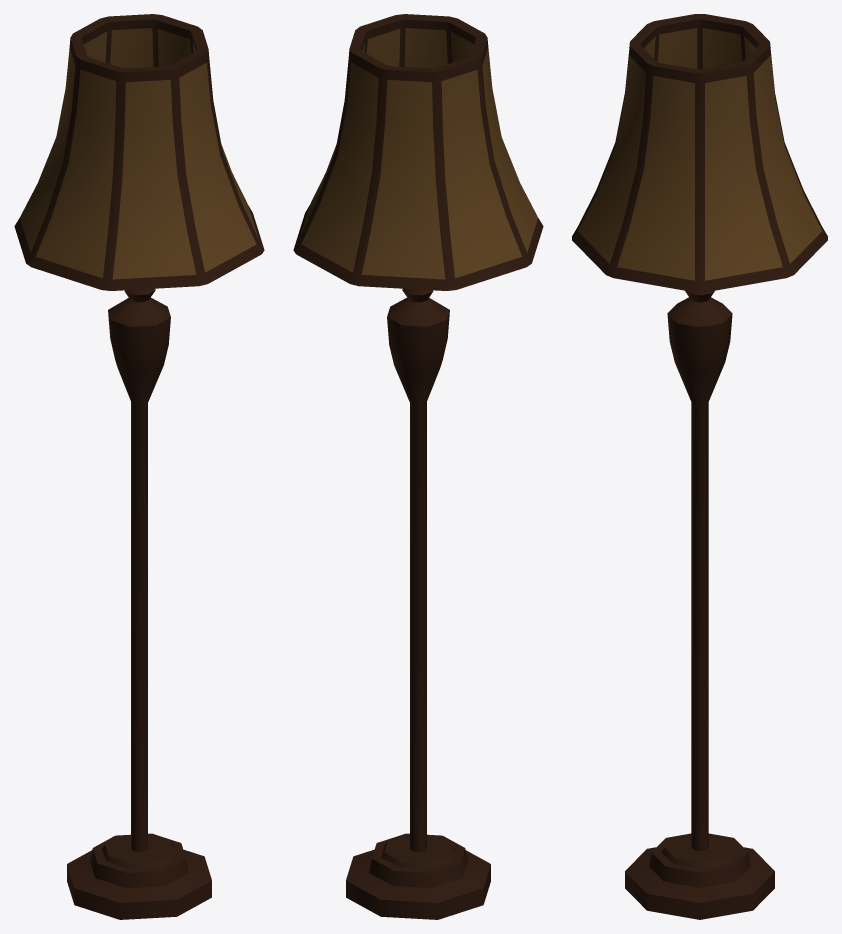
The model's file is SM_FloorLamp_01.fbx.
3 views of the same model, side by side, from view 1: azimuth 30°, elevation 25°; view 2: azimuth 150°, elevation 25°; view 3: azimuth 270°, elevation 25° (orthographic).
Visible parts, largest first — view 1: SM_FloorLamp_01; view 2: SM_FloorLamp_01; view 3: SM_FloorLamp_01.
Part boxes in pixels (x1,y1,x2,y2): SM_FloorLamp_01: (14,14,264,919); SM_FloorLamp_01: (293,14,543,919); SM_FloorLamp_01: (572,14,827,919).
Size of the model in its own units: 26.84 by 97.79 by 26.84.
